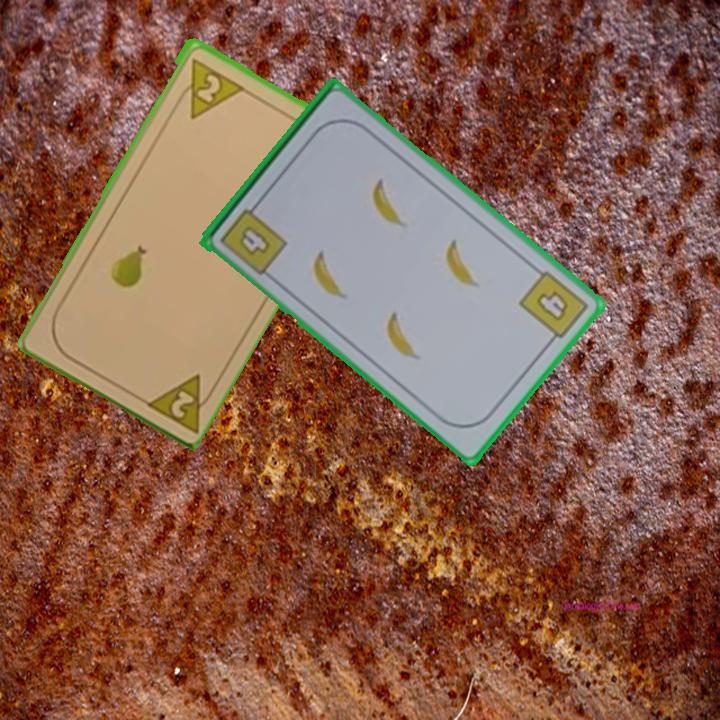2p: (139, 369, 221, 435), (172, 53, 245, 121)
4b: (515, 267, 592, 349), (239, 226, 274, 258)
